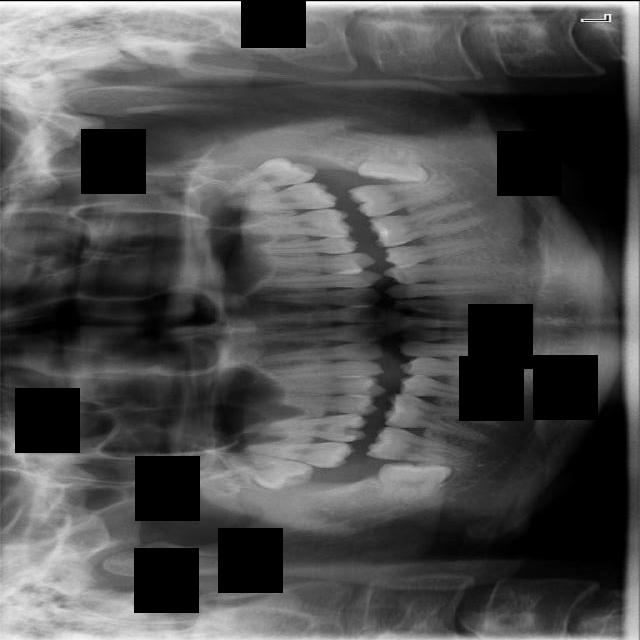3M ESPE Implant: (223, 449, 314, 496)
52: (342, 423, 359, 436)
73: (534, 38, 535, 61)
BioHorizons Implant: (227, 180, 338, 212)
BioLife Implant: (223, 151, 319, 194)
Biomet 3i Implant: (356, 137, 432, 188)
Blue Sky Bio Implant: (347, 177, 460, 219)
Caries: (246, 440, 357, 469)
Implant: (366, 423, 474, 468)
Keystone Dental Implant: (378, 459, 452, 504)
